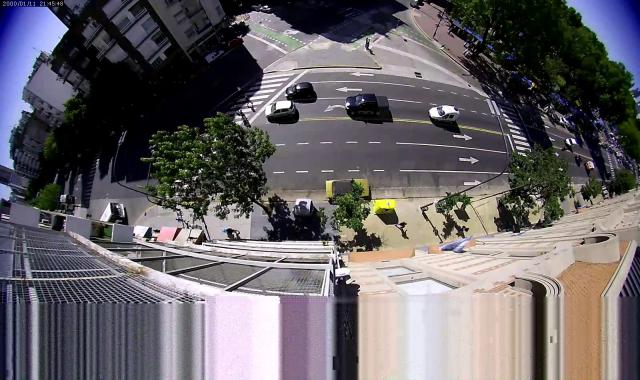bus: (100, 202, 125, 224), (60, 194, 74, 203)
car: (346, 93, 390, 115), (326, 179, 369, 198), (265, 100, 296, 121), (428, 105, 459, 124), (285, 82, 314, 100), (204, 50, 224, 63), (226, 38, 243, 49), (564, 138, 576, 147), (260, 5, 273, 13), (584, 161, 594, 171), (566, 120, 575, 130), (549, 114, 558, 122), (575, 155, 583, 163), (559, 118, 567, 125), (594, 151, 600, 156)
